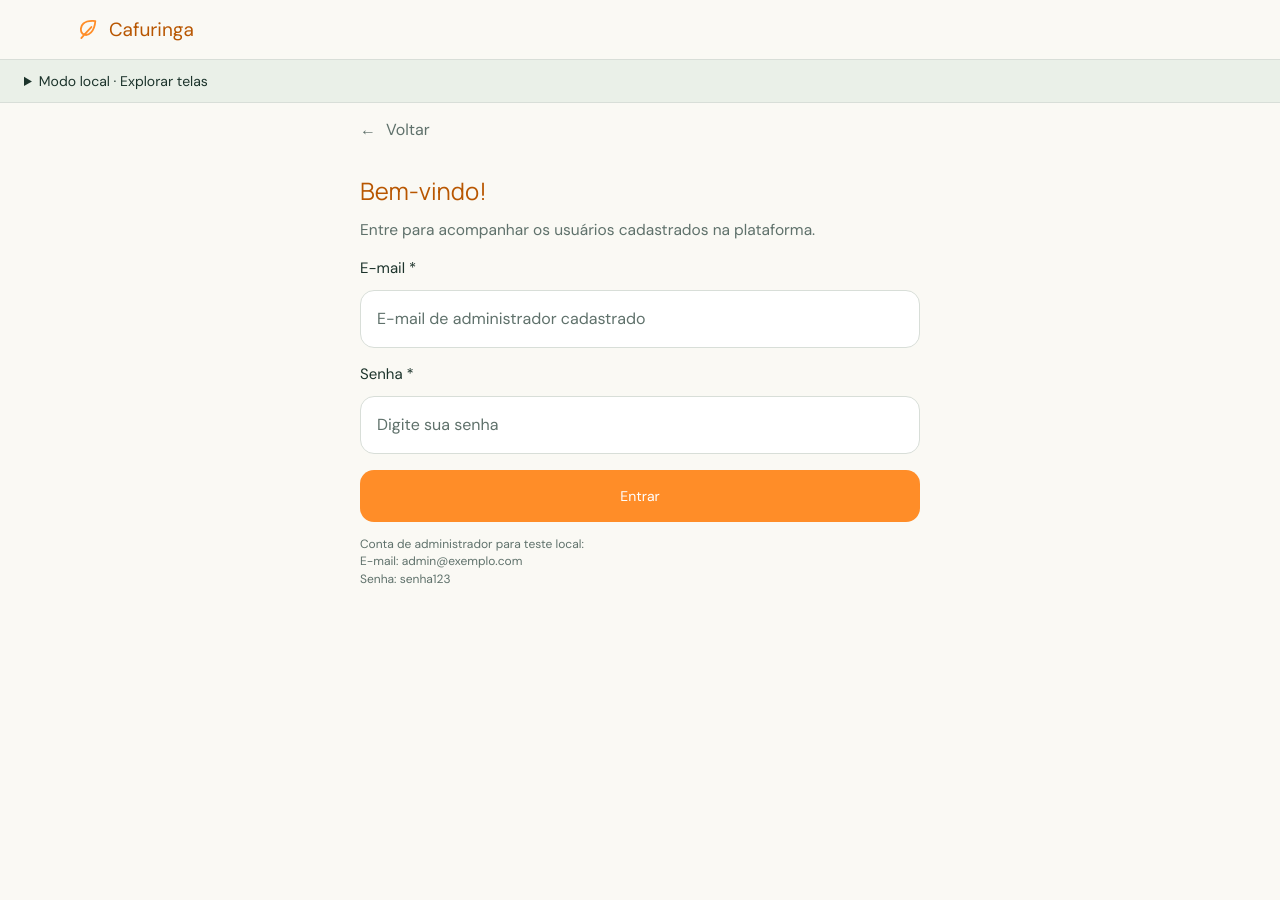
área administrativa — RN03/RNF08/CA06 › fluxo completo no modo mock: entra como admin, cadastra outro e o novo entra
In the field labelled "E-mail": [640, 319] box [360,290,920,348], type "admin@exemplo.com"
In the password field labelled "Senha": [640, 425] box [360,396,920,454], type "senha123"
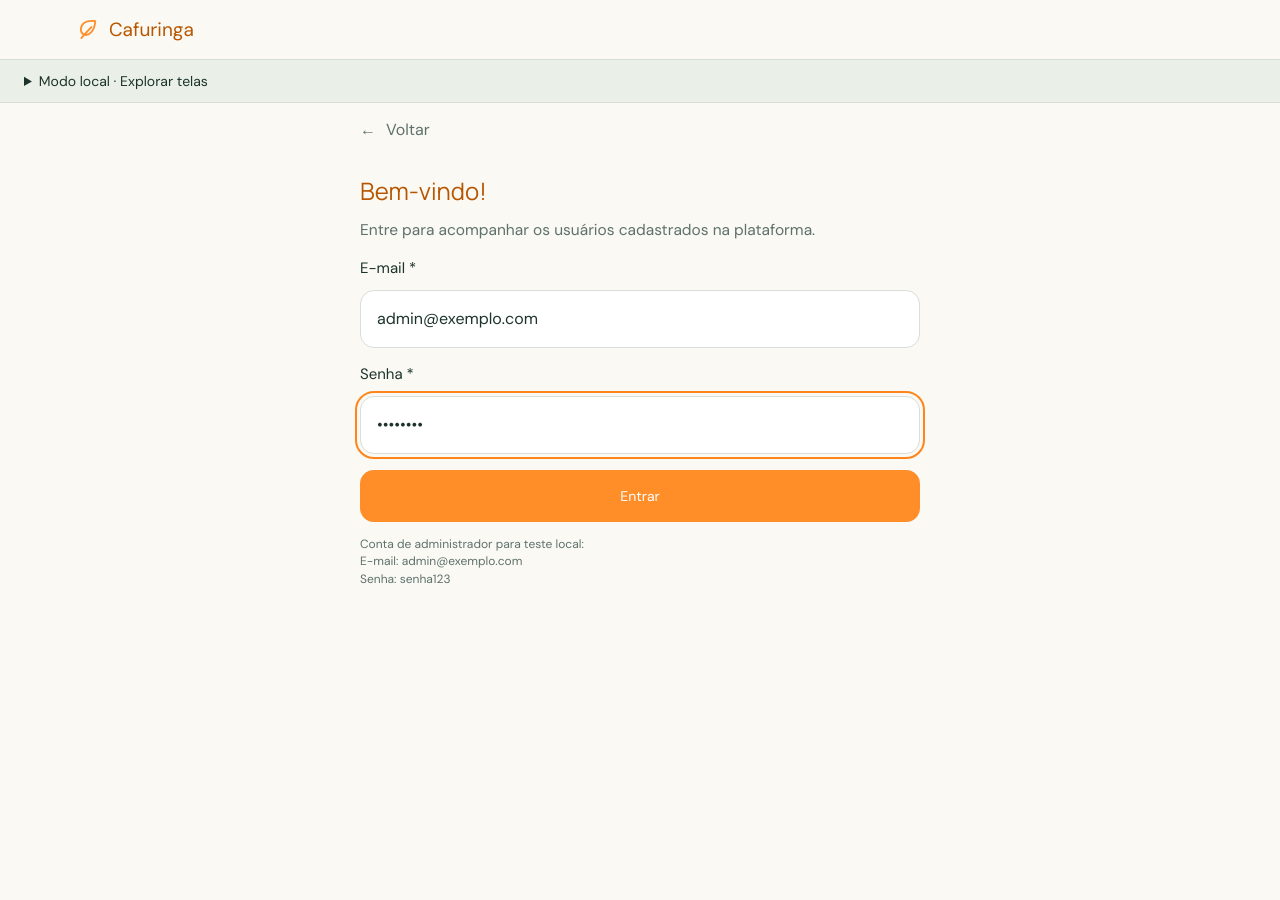
Click the button "Entrar": [640, 496] box [360,470,920,522]
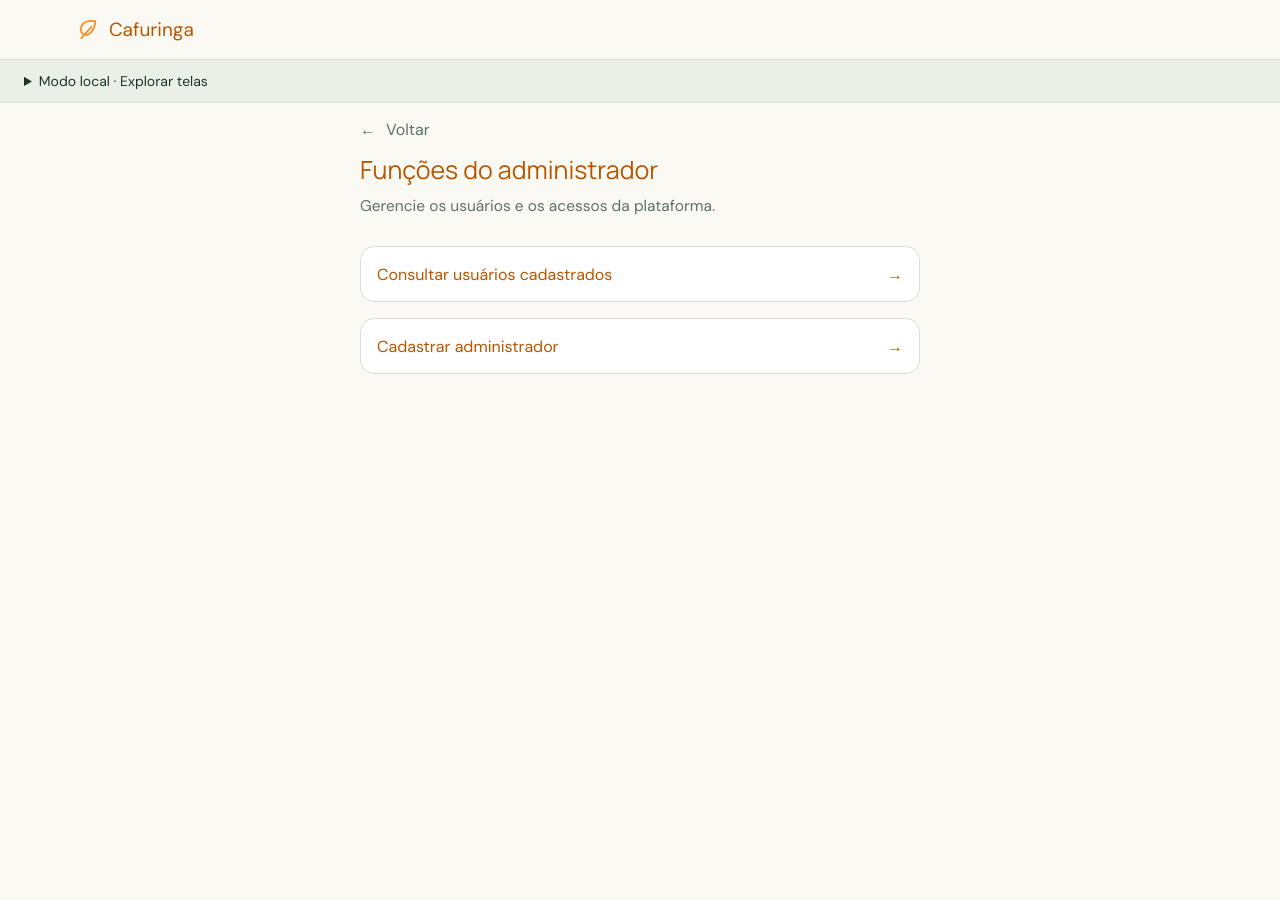
Now the heading "Funções do administrador" is shown, box [360,152,658,187]
Now the link "Consultar usuários cadastrados →" is shown, box [360,246,920,302]
Click the link "Cadastrar administrador →": [468, 346] box [360,318,920,374]
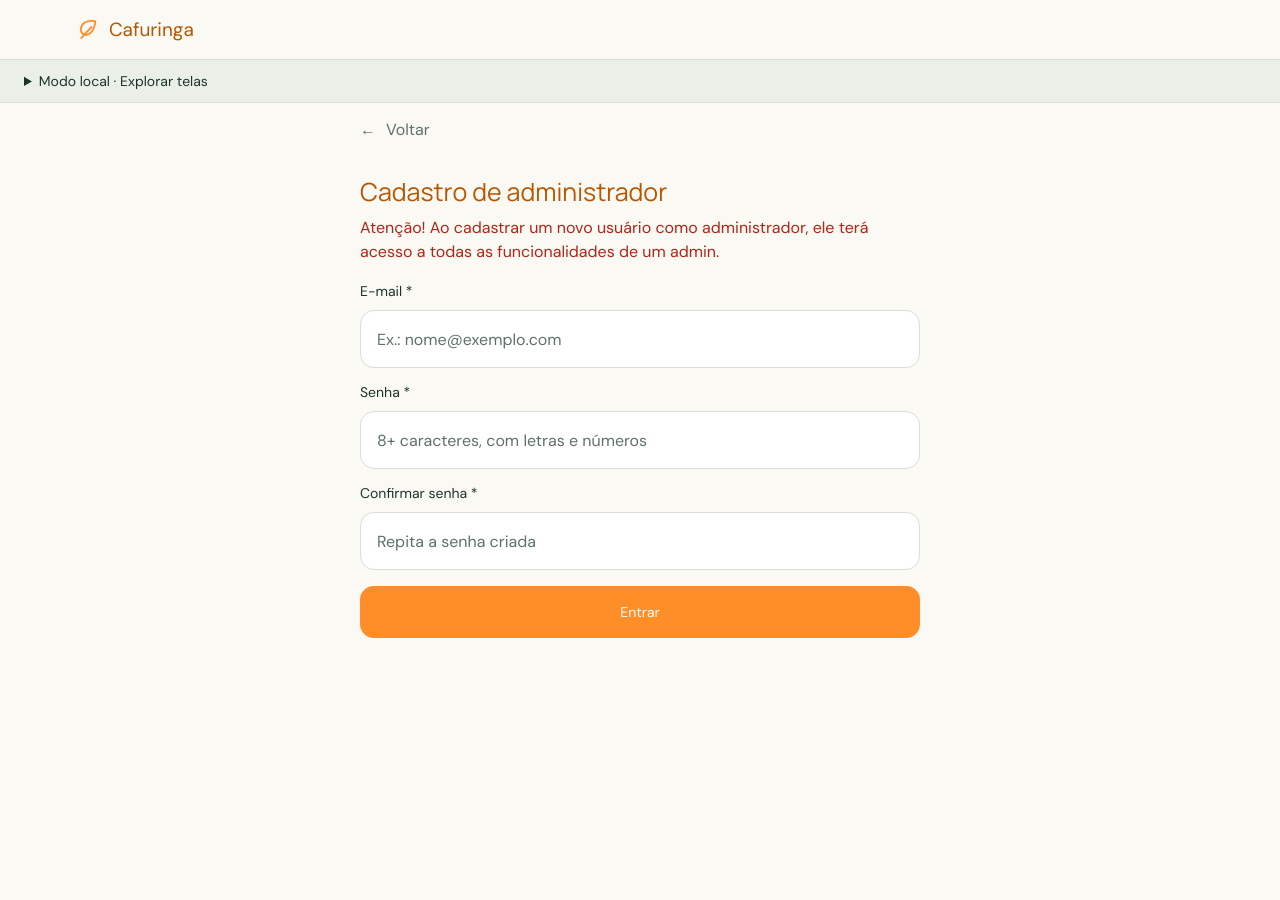
Now the heading "Cadastro de administrador" is shown, box [360,174,667,209]
In the field labelled "E-mail": [640, 339] box [360,310,920,368], type "novo@exemplo.com"
In the password field labelled "Senha": [640, 440] box [360,411,920,469], type "SenhaForte123"
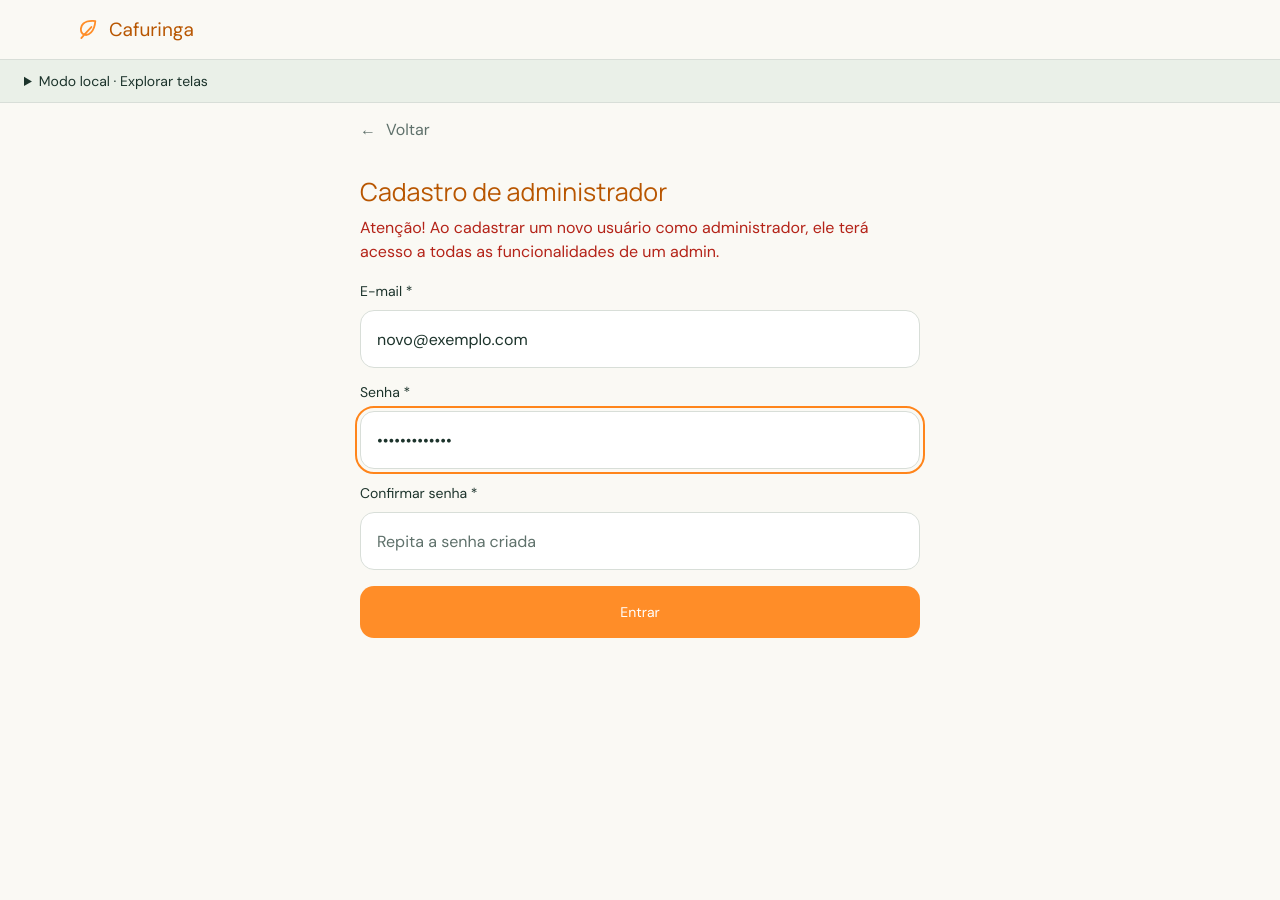
In the password field labelled "Confirmar senha": [640, 541] box [360,512,920,570], type "SenhaForte123"
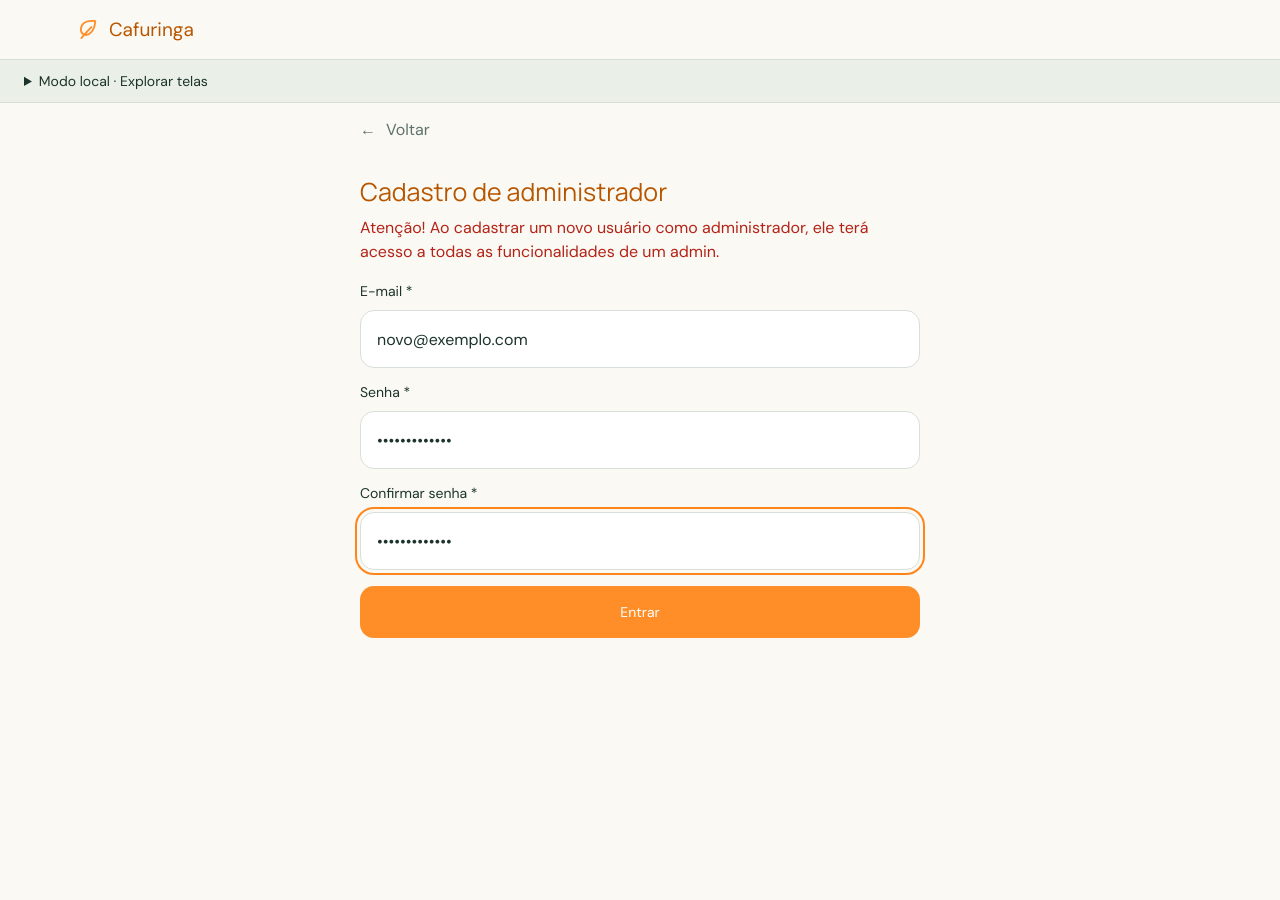
Click the button "Entrar": [640, 612] box [360,586,920,638]
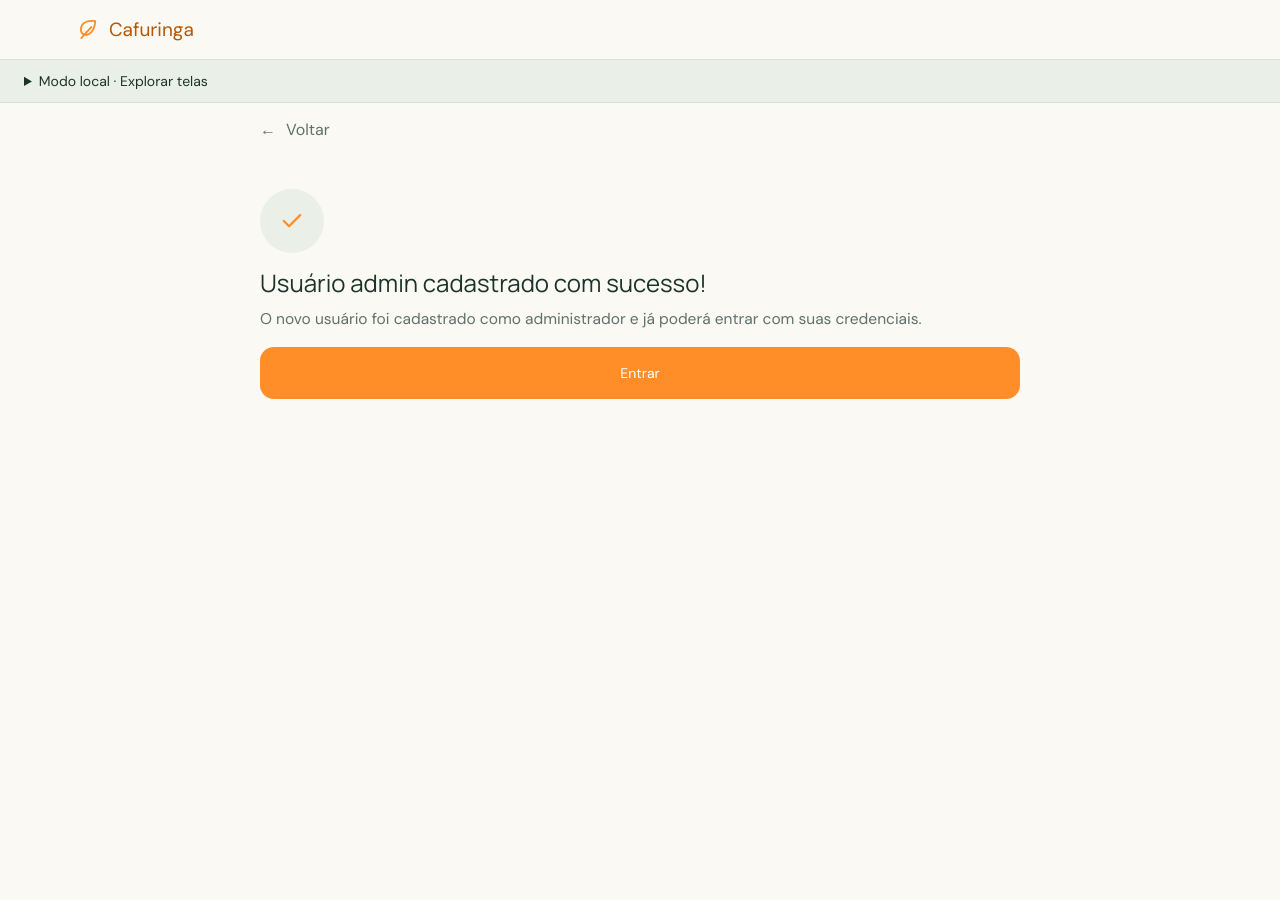
Now the heading "Usuário admin cadastrado com sucesso!" is shown, box [260,266,707,299]
